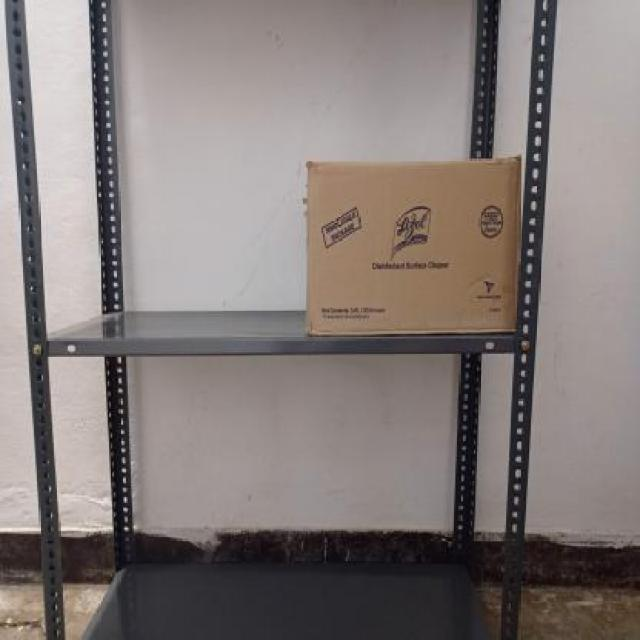box: (307, 158, 521, 336)
